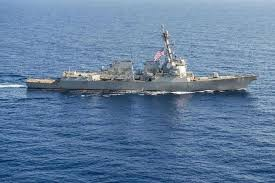tau_muctieu: (27, 39, 251, 92)
